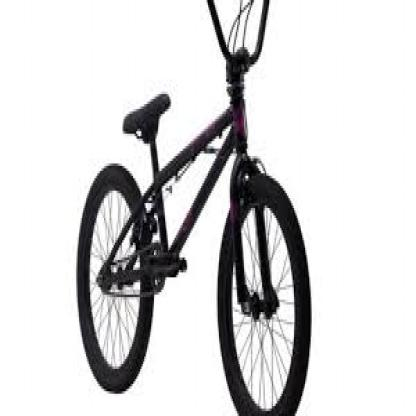Bike: (72, 0, 312, 416)
